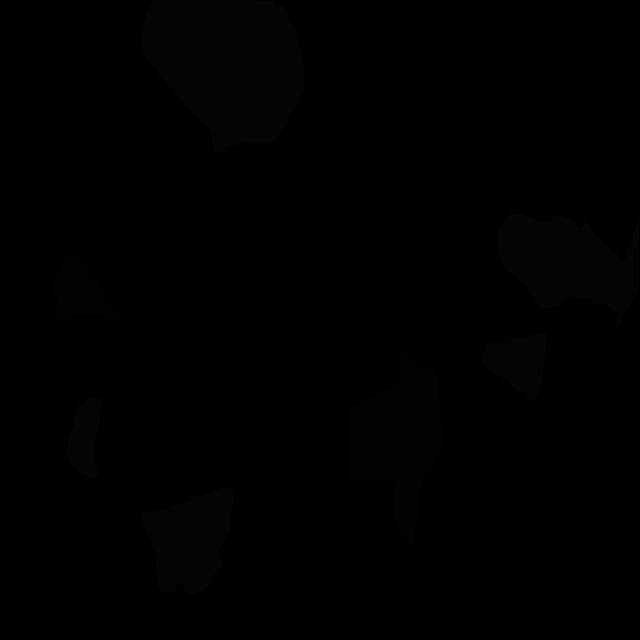cardboard: (350, 345, 444, 547), (51, 253, 123, 323)
soft_plastic: (140, 0, 304, 153), (498, 214, 639, 330), (142, 484, 234, 595), (482, 332, 547, 403), (67, 396, 101, 477)
